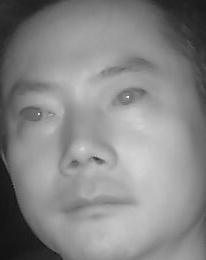eye: (108, 85, 153, 112), (17, 102, 61, 126)
mouth: (56, 184, 135, 225)
